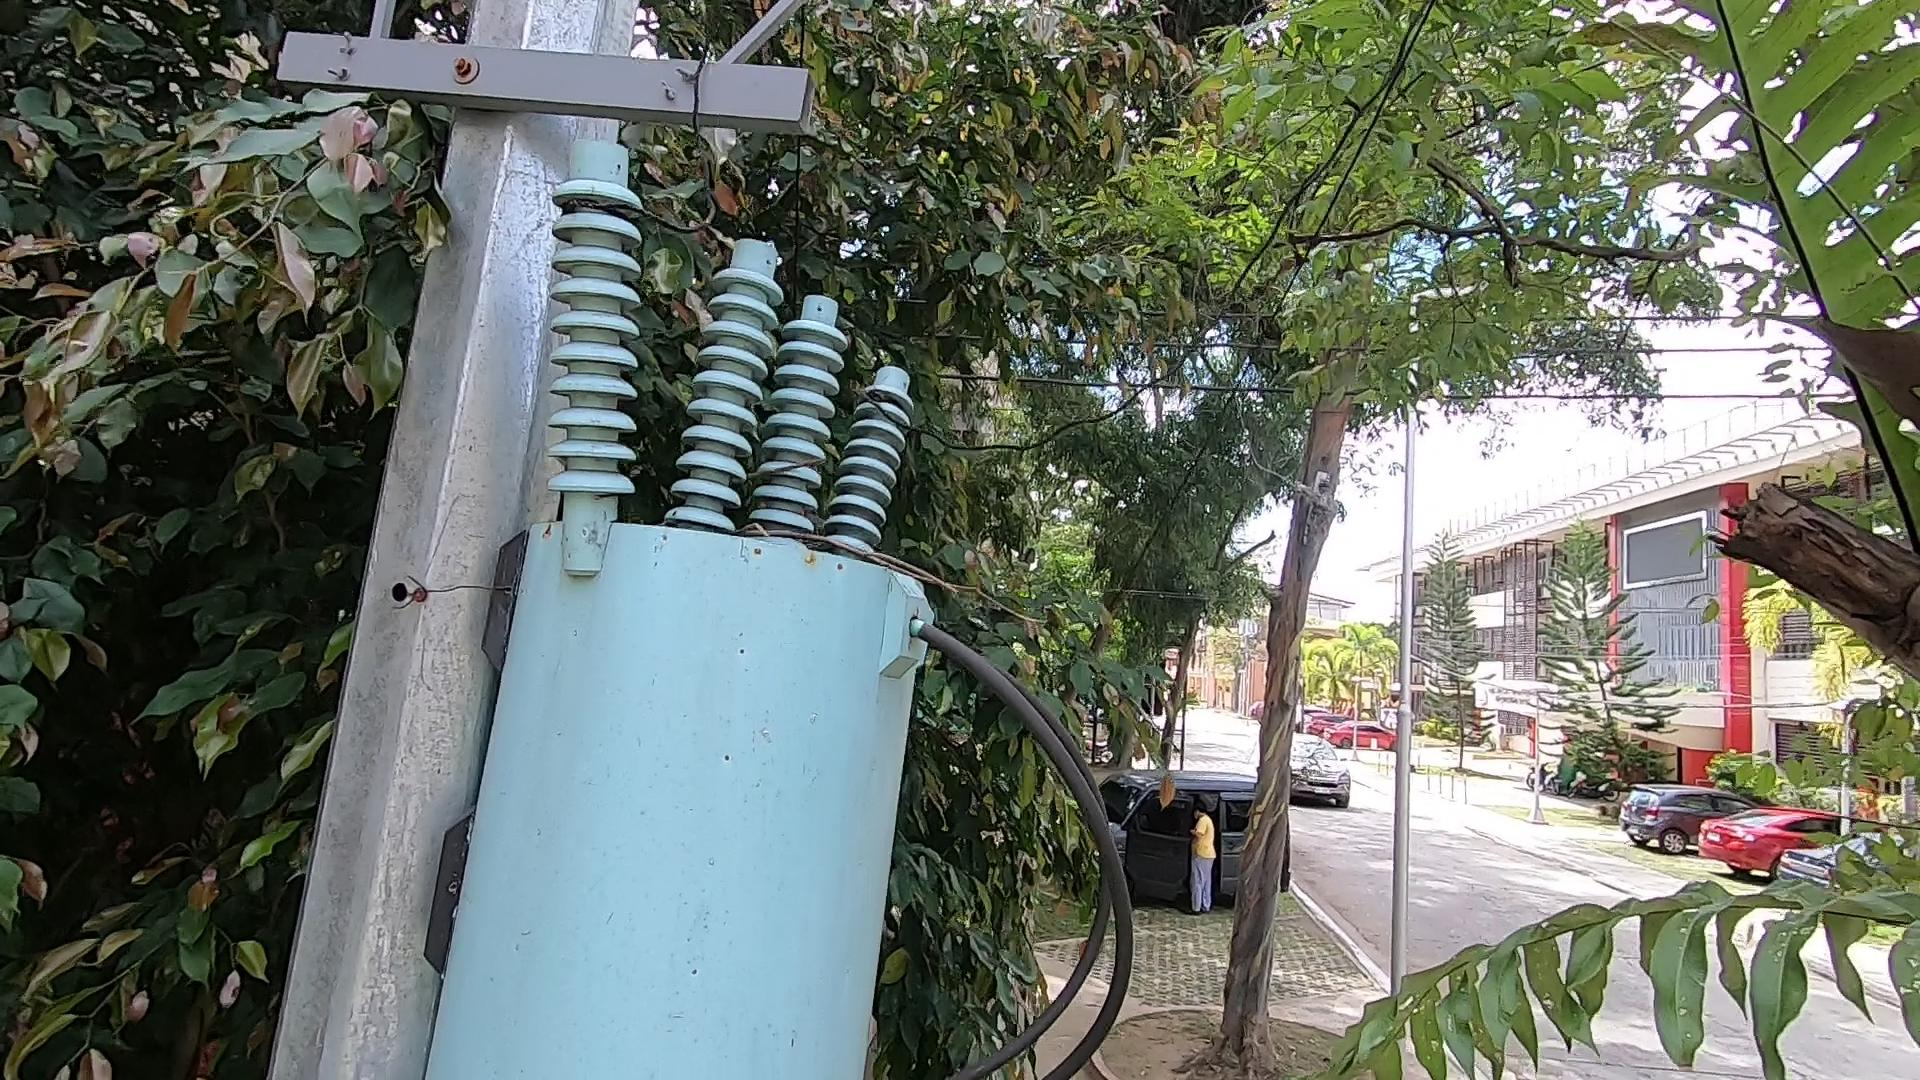tree branch: (654, 484, 1044, 640)
